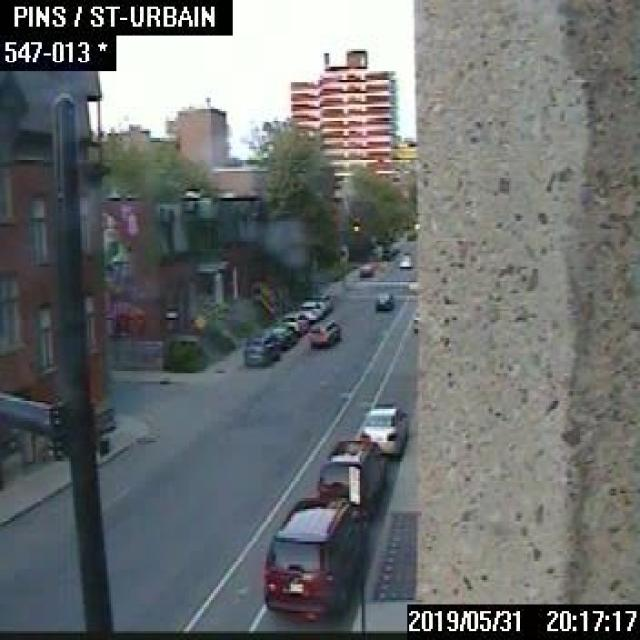vehicle: (263, 495, 367, 621), (316, 437, 386, 520), (358, 402, 406, 455), (241, 333, 280, 364), (307, 318, 340, 346), (269, 323, 296, 348), (280, 311, 308, 334), (298, 298, 324, 321), (308, 292, 332, 312), (373, 289, 393, 309), (397, 252, 411, 266), (359, 261, 372, 276)
